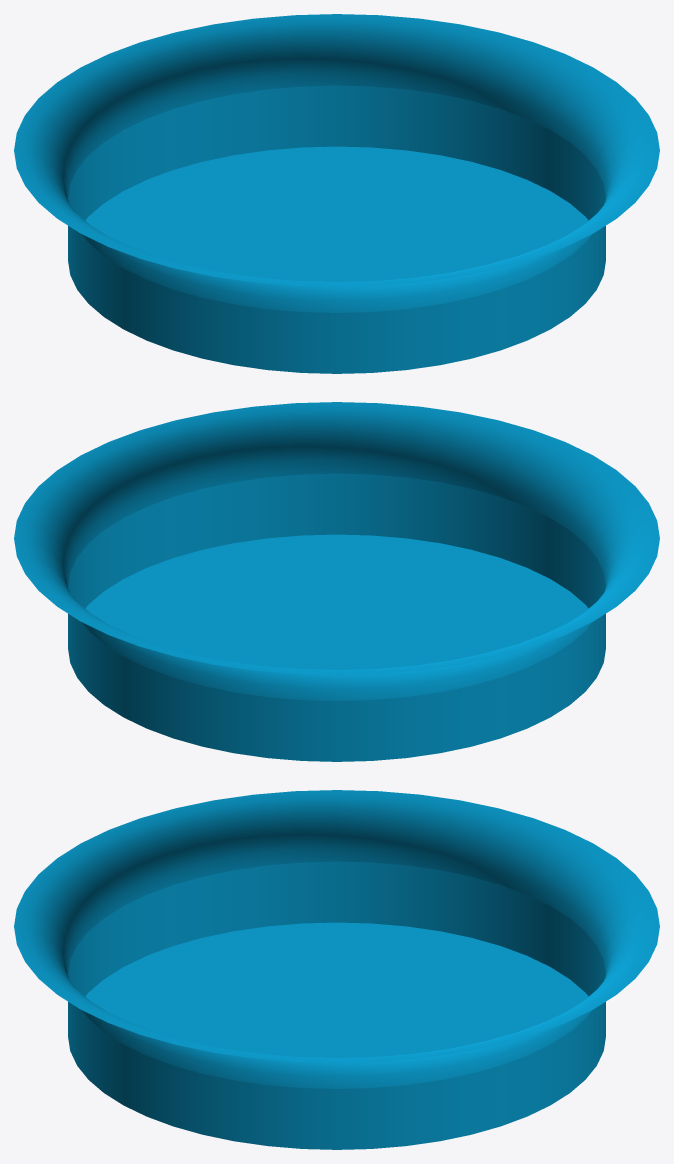
File: original-61.obj
3 renders of one model, top to bottom at view 1: azimuth 30°, elevation 25°; view 2: azimuth 150°, elevation 25°; view 3: azimuth 270°, elevation 25°, orthographic.
Visible parts, largest first — view 1: #ID516; view 2: #ID516; view 3: #ID516.
Boxes of the visible parts, x1,y1,x2,y2 form: #ID516: (14, 14, 659, 373); #ID516: (14, 402, 659, 761); #ID516: (14, 790, 659, 1149).
Bounding box in the file's own units: 0.0328 × 0.00615 × 0.0328.
